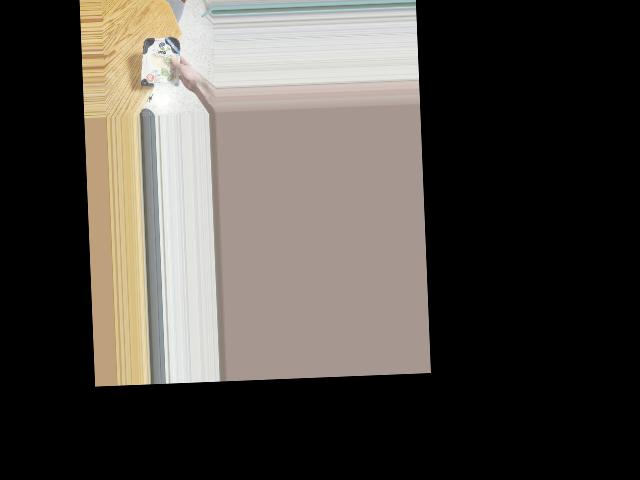cheese: (139, 28, 180, 96)
